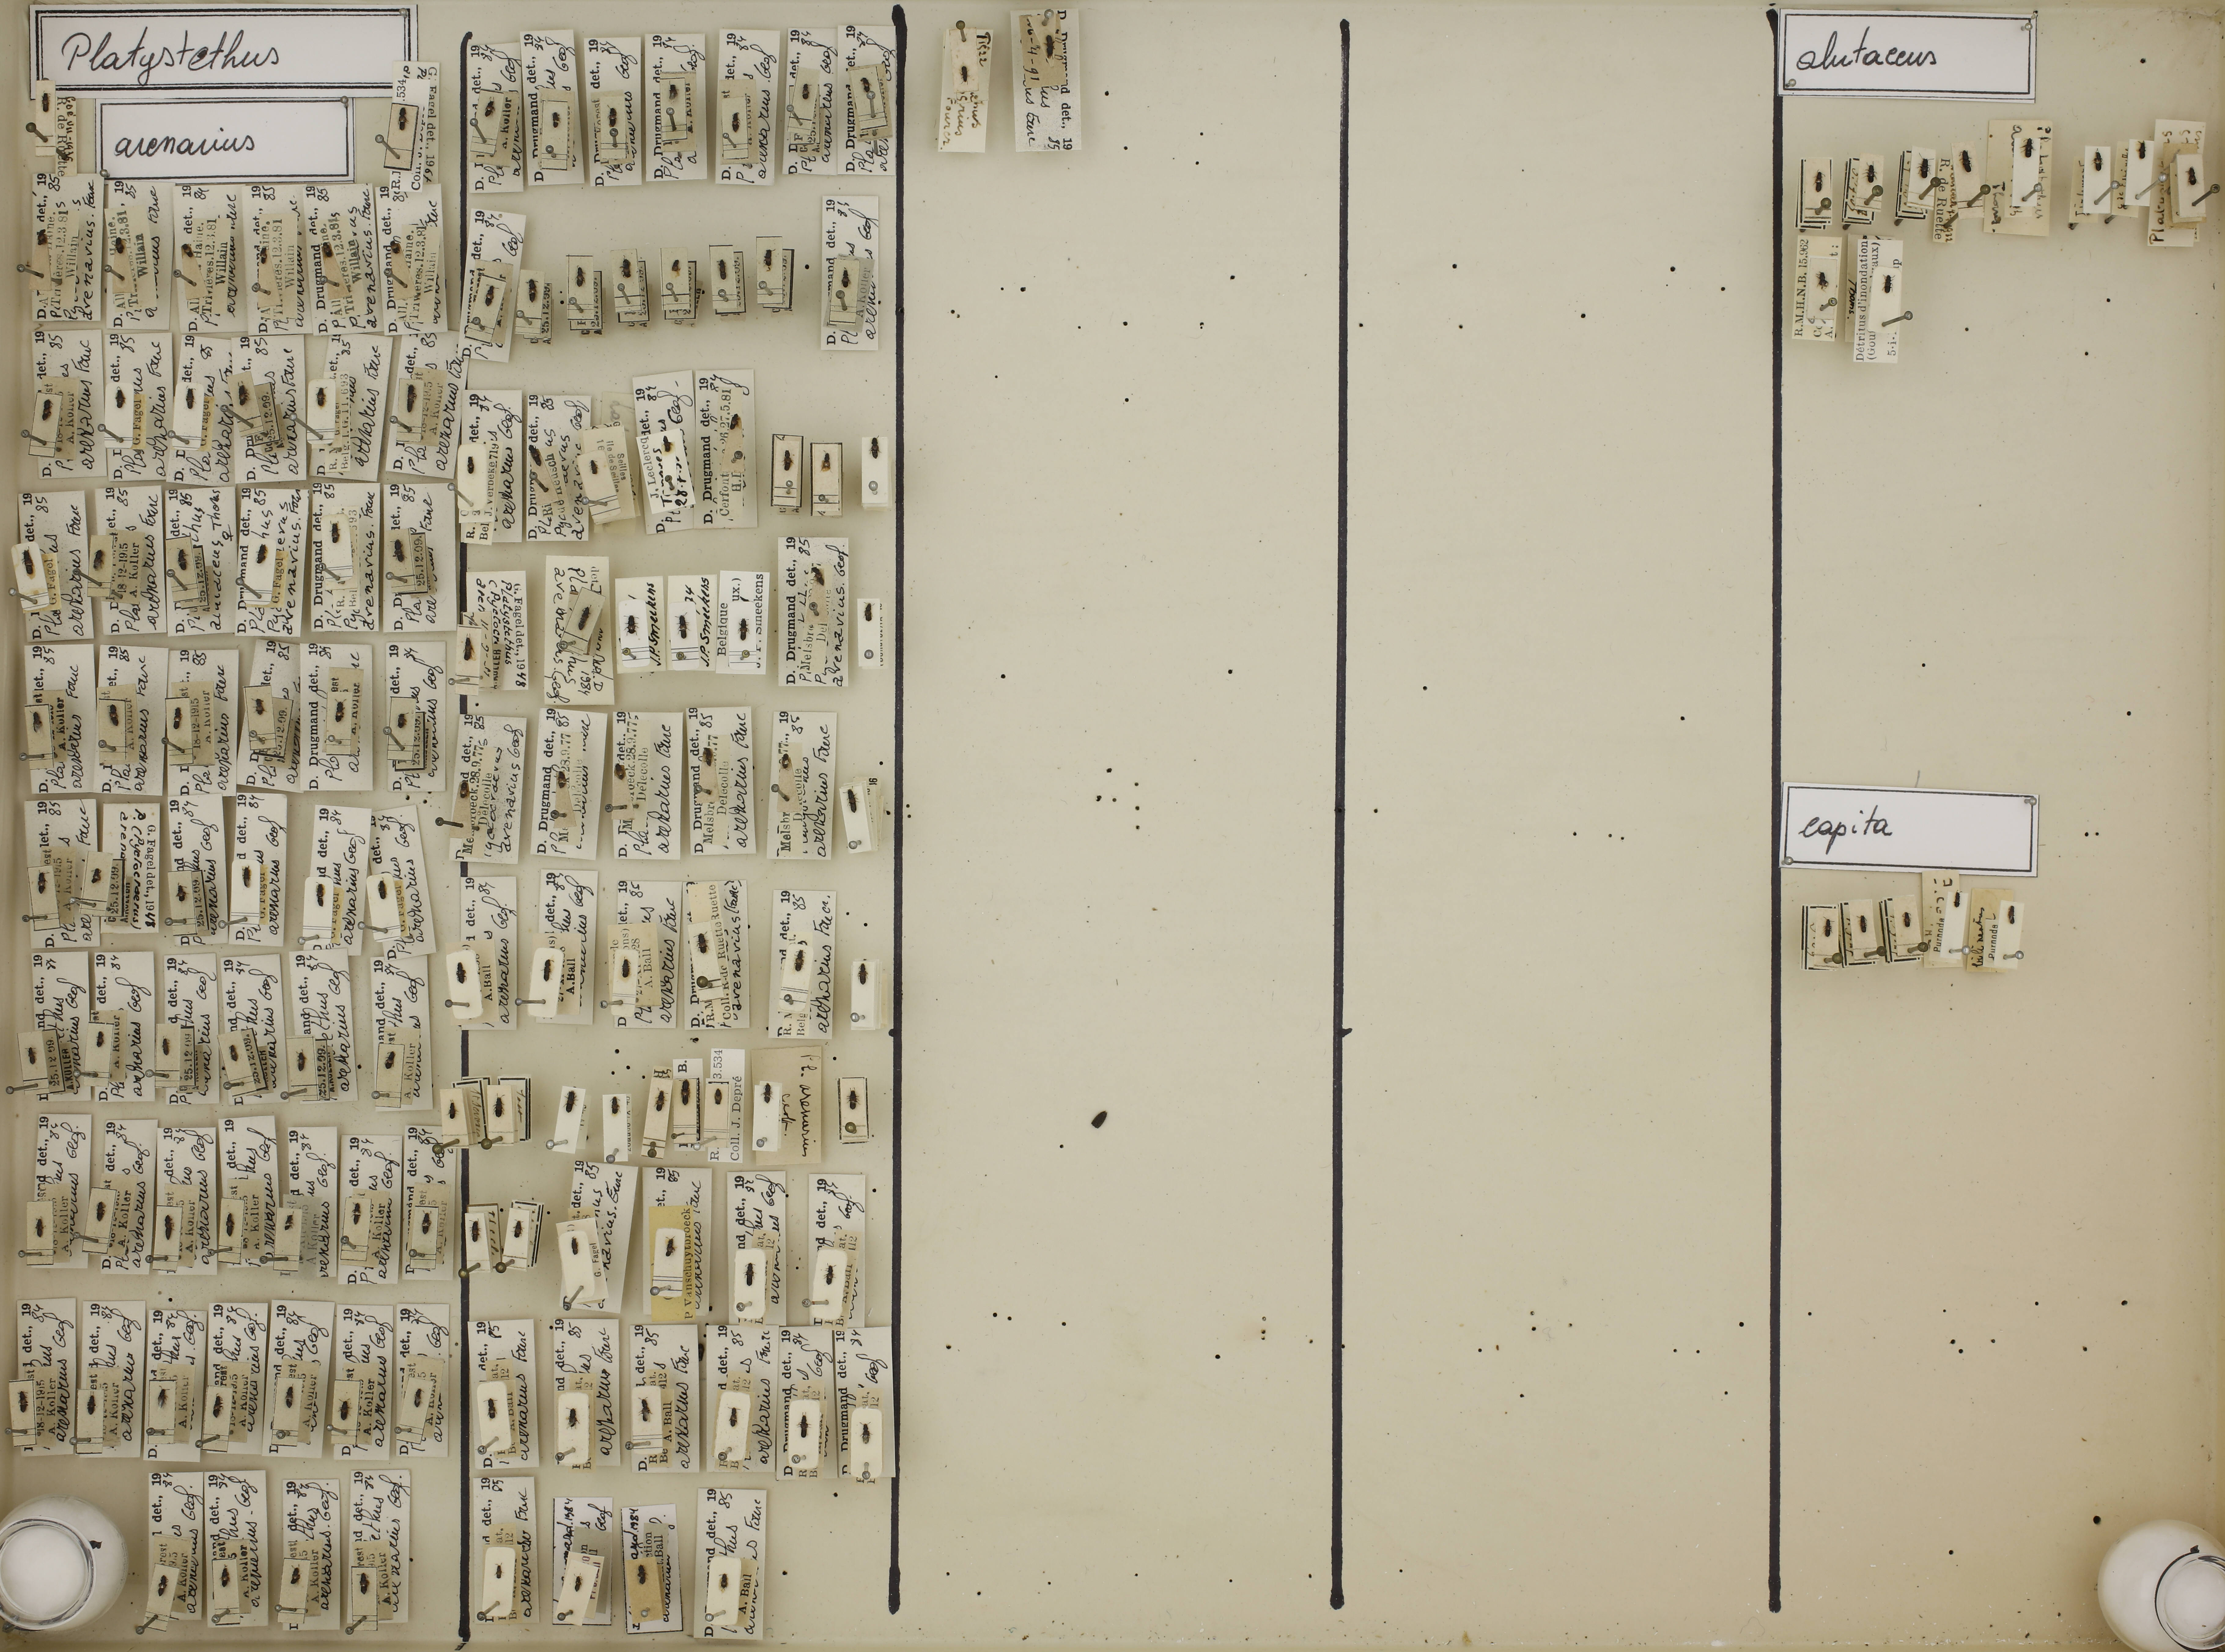insect: (154, 1384, 173, 1413), (841, 785, 859, 814), (1916, 152, 1935, 178), (21, 545, 37, 577), (355, 1572, 373, 1598), (652, 1086, 668, 1115), (694, 929, 711, 956), (578, 603, 594, 632), (389, 539, 408, 563), (405, 382, 418, 415), (796, 1411, 811, 1440), (676, 611, 691, 639), (337, 1397, 354, 1421), (638, 1396, 653, 1425), (616, 254, 633, 281), (742, 1260, 758, 1287), (622, 614, 640, 637), (761, 247, 777, 272), (527, 444, 544, 469), (333, 697, 348, 724), (287, 1563, 304, 1586), (565, 1405, 581, 1430), (210, 1392, 225, 1419), (484, 283, 499, 308), (493, 1091, 507, 1119), (174, 882, 191, 904), (462, 633, 475, 662), (573, 265, 589, 288), (251, 696, 268, 717), (16, 1388, 31, 1413), (793, 948, 807, 974), (236, 381, 250, 408), (563, 1089, 578, 1113), (736, 618, 751, 642), (525, 277, 539, 303), (23, 1045, 40, 1067), (678, 1078, 692, 1105), (1957, 149, 1972, 173), (859, 1421, 873, 1445), (667, 79, 681, 105), (541, 957, 555, 983), (85, 1390, 98, 1417), (1862, 161, 1877, 183), (728, 1405, 742, 1429), (29, 709, 43, 734), (2018, 138, 2035, 158), (714, 259, 729, 282), (635, 1562, 650, 1585), (700, 745, 716, 766), (1814, 270, 1829, 292), (164, 1213, 175, 1242), (419, 1209, 432, 1235), (283, 1383, 296, 1409), (454, 960, 469, 983), (315, 384, 329, 407), (219, 1565, 232, 1590), (329, 520, 342, 545), (1044, 34, 1056, 60), (458, 779, 473, 801), (485, 1397, 499, 1420), (155, 1574, 169, 1598), (823, 1262, 837, 1285), (1823, 916, 1835, 942), (171, 706, 184, 730), (37, 869, 50, 893), (176, 546, 189, 571), (35, 1213, 47, 1239), (664, 1234, 677, 1258), (483, 95, 496, 118), (40, 89, 52, 115), (958, 65, 972, 87), (447, 1098, 460, 1121), (185, 385, 197, 410), (840, 265, 853, 290), (857, 963, 869, 986), (1882, 273, 1896, 294), (607, 104, 619, 127), (2185, 166, 2199, 188), (811, 566, 826, 587), (847, 1086, 860, 1109), (397, 106, 409, 131), (2091, 148, 2103, 173), (107, 703, 119, 727), (1855, 913, 1869, 935), (383, 1049, 397, 1070), (660, 435, 674, 455), (255, 544, 269, 565), (240, 864, 253, 887), (1813, 168, 1826, 191), (470, 1217, 481, 1242), (492, 1560, 506, 1580), (315, 880, 325, 908), (781, 448, 793, 473), (351, 1202, 362, 1226), (620, 955, 631, 979), (89, 868, 105, 886), (41, 399, 54, 421), (555, 769, 568, 791), (862, 600, 874, 623), (92, 549, 105, 570), (614, 762, 628, 781), (113, 235, 126, 256), (225, 1212, 236, 1237), (667, 259, 684, 274), (284, 1209, 295, 1233), (35, 227, 49, 247), (296, 1049, 306, 1073), (95, 1199, 106, 1222), (160, 1034, 172, 1056), (730, 110, 742, 132), (718, 1573, 731, 1592), (511, 1219, 524, 1239), (821, 449, 832, 471), (413, 1388, 425, 1408), (762, 1082, 774, 1104), (114, 388, 126, 409), (397, 710, 410, 728), (728, 412, 740, 431), (870, 435, 880, 459), (2005, 904, 2017, 925), (258, 246, 270, 266), (378, 878, 388, 899), (2137, 139, 2148, 159), (608, 1097, 620, 1115), (1952, 888, 1962, 909), (550, 111, 562, 127), (588, 459, 600, 475), (322, 240, 334, 257), (94, 1030, 105, 1049), (182, 243, 195, 258), (574, 1572, 583, 1593), (570, 1236, 579, 1256), (229, 1043, 239, 1061), (801, 82, 811, 99), (859, 76, 872, 90), (1901, 911, 1912, 927), (389, 239, 400, 254), (713, 1088, 722, 1106), (780, 754, 791, 769), (467, 454, 474, 475)
